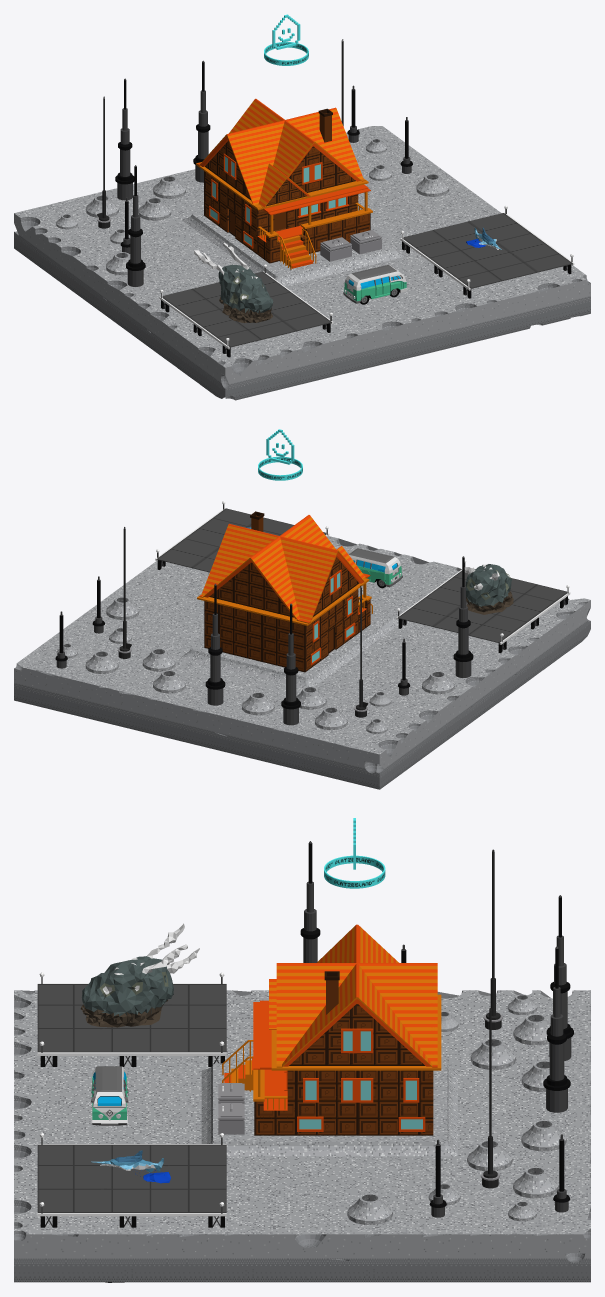
The picture shows the model from 3 angles, top to bottom: view 1: azimuth 30°, elevation 25°; view 2: azimuth 150°, elevation 25°; view 3: azimuth 270°, elevation 25°; orthographic projection. The views are drawn at different scales.
Visible parts, largest first — view 1: Cube.027, Cube, Cube.026, Cube.025, Cube.028, OBJRANDOM_METEORITE, VEHICLES_VAN, Cylinder.021, Cylinder.020, Cylinder.017, TYPE_PREMIUM, Cube.029 (+4 smaller); view 2: Cube.027, Cube, Cube.025, Cube.028, Cube.026, OBJRANDOM_METEORITE, VEHICLES_VAN, Cylinder.017, Cylinder.021, Cylinder.020, TYPE_PREMIUM, Cylinder.030 (+8 smaller); view 3: Cube.027, Cube, Cube.026, Cube.025, Cube.028, OBJRANDOM_METEORITE, Cylinder.017, VEHICLES_VAN, Cylinder.020, Cylinder.021, TYPE_PREMIUM, Cylinder.031 (+12 smaller).
Boxes of the visible parts, <box> form: Cube.027: <box>14,126,590,400</box>; Cube: <box>196,98,372,269</box>; Cube.026: <box>400,205,574,298</box>; Cube.025: <box>159,264,333,357</box>; Cube.028: <box>182,211,403,286</box>; OBJRANDOM_METEORITE: <box>194,242,273,323</box>; VEHICLES_VAN: <box>343,264,407,304</box>; Cylinder.021: <box>126,165,145,286</box>; Cylinder.020: <box>115,78,134,200</box>; Cylinder.017: <box>193,60,210,182</box>; TYPE_PREMIUM: <box>264,14,308,65</box>; Cube.029: <box>320,237,351,261</box>; Cube.027: <box>14,536,590,789</box>; Cube: <box>197,511,372,672</box>; Cube.025: <box>396,560,570,653</box>; Cube.028: <box>181,610,398,688</box>; Cube.026: <box>155,501,329,572</box>; OBJRANDOM_METEORITE: <box>464,563,513,614</box>; VEHICLES_VAN: <box>348,548,402,588</box>; Cylinder.017: <box>205,583,225,705</box>; Cylinder.021: <box>453,556,473,677</box>; Cylinder.020: <box>281,603,300,725</box>; TYPE_PREMIUM: <box>258,429,302,480</box>; Cylinder.030: <box>142,648,175,671</box>; Cube.027: <box>14,990,590,1282</box>; Cube: <box>222,924,441,1135</box>; Cube.026: <box>37,1133,226,1227</box>; Cube.025: <box>37,972,226,1066</box>; Cube.028: <box>201,1063,457,1156</box>; OBJRANDOM_METEORITE: <box>80,923,199,1027</box>; Cylinder.017: <box>543,946,570,1112</box>; VEHICLES_VAN: <box>90,1066,128,1125</box>; Cylinder.020: <box>546,895,573,1060</box>; Cylinder.021: <box>300,841,320,962</box>; TYPE_PREMIUM: <box>324,818,385,888</box>; Cylinder.031: <box>513,1167,558,1198</box>.
Size of the model in its own units: 4000 by 2676 by 4000.
Materials: 38 (6 with a texture image).
